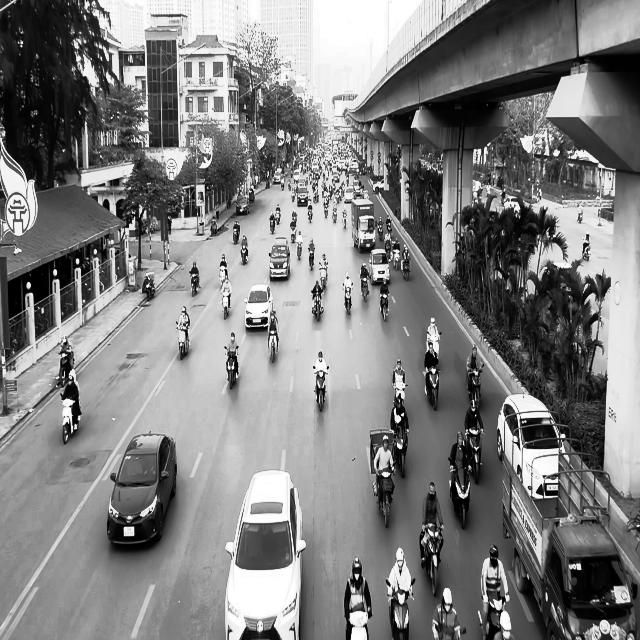car: (224, 470, 306, 640), (106, 431, 177, 546), (496, 393, 570, 500), (244, 283, 274, 330), (268, 237, 290, 280), (368, 248, 390, 285), (236, 196, 249, 215)
motorbike: (386, 578, 416, 640), (419, 523, 444, 596), (448, 460, 471, 529), (478, 592, 508, 640), (374, 466, 396, 528), (464, 428, 484, 484), (60, 393, 81, 444), (391, 424, 409, 478), (312, 364, 329, 412), (466, 365, 483, 409), (424, 365, 440, 410), (224, 345, 239, 389), (175, 320, 190, 360), (310, 283, 324, 321), (268, 328, 278, 362), (221, 286, 231, 320), (380, 290, 390, 322), (143, 273, 155, 299), (343, 283, 352, 314), (189, 271, 199, 297), (581, 235, 591, 260), (319, 264, 328, 290), (308, 246, 315, 270), (240, 245, 248, 264), (269, 213, 275, 233)
